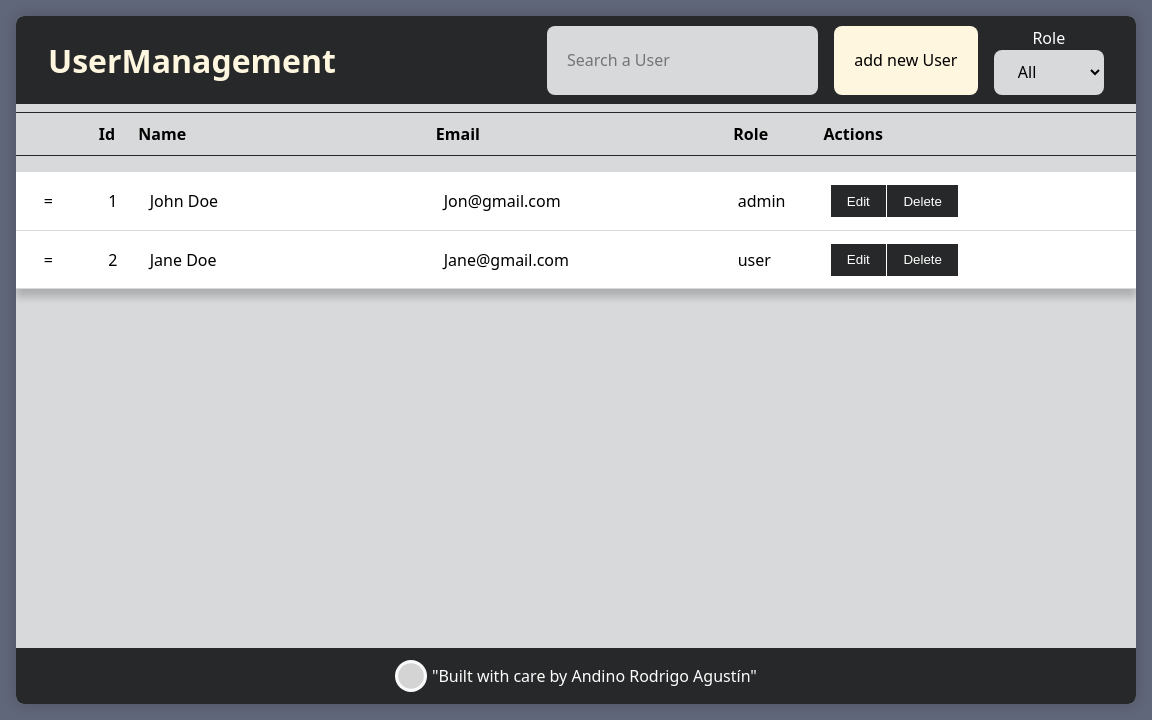
Test: App › should add a new user
Click the button "add new User": (906, 60) left=834, top=26, right=978, bottom=95
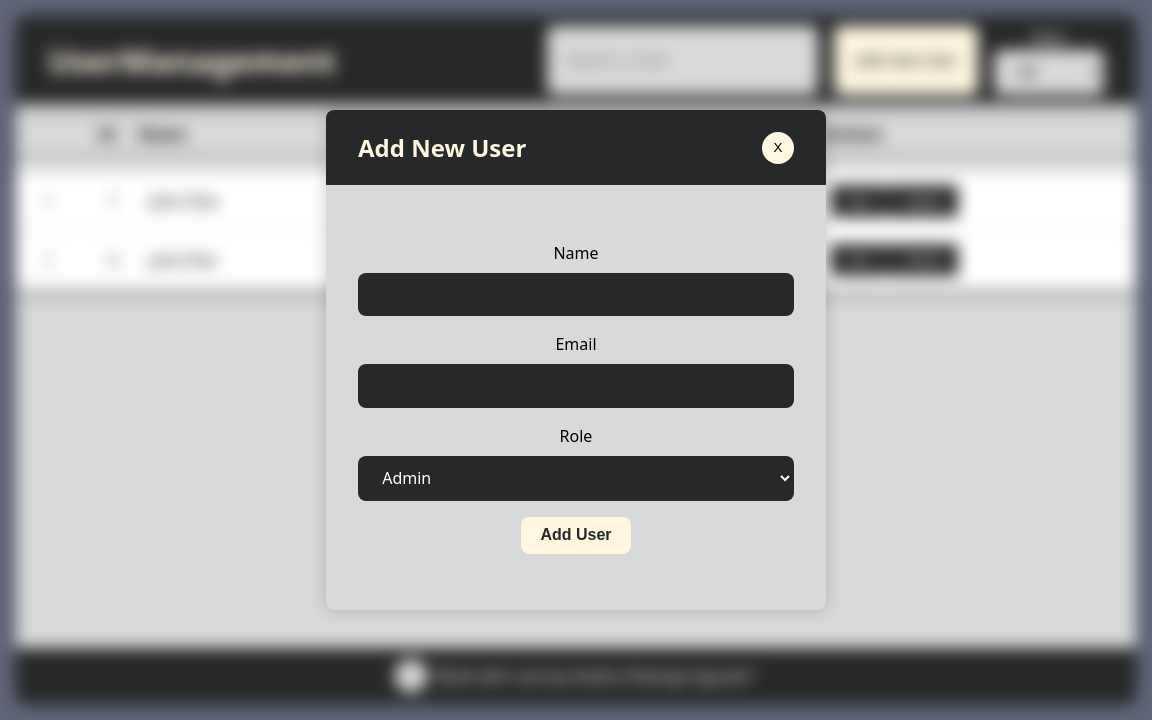
In the field labelled "Name": (576, 295) left=358, top=273, right=794, bottom=316, type "Rodri"
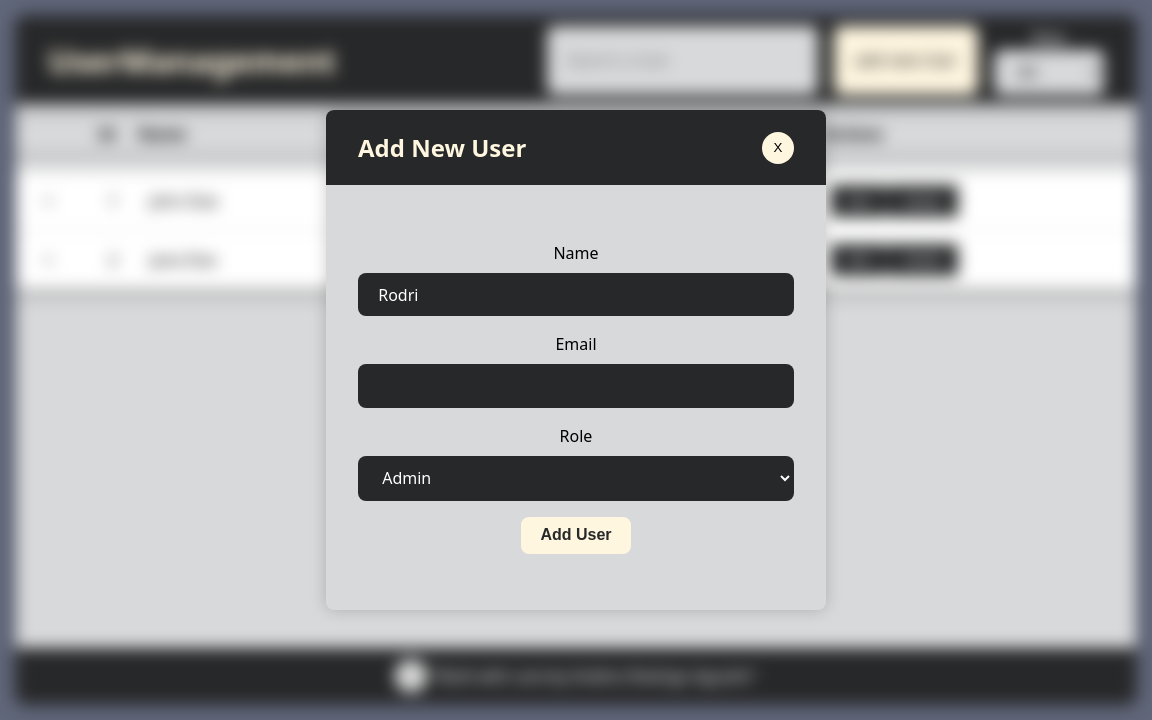
In the field labelled "Email": (576, 386) left=358, top=364, right=794, bottom=408, type "andinorodrigo03@gmail.com"
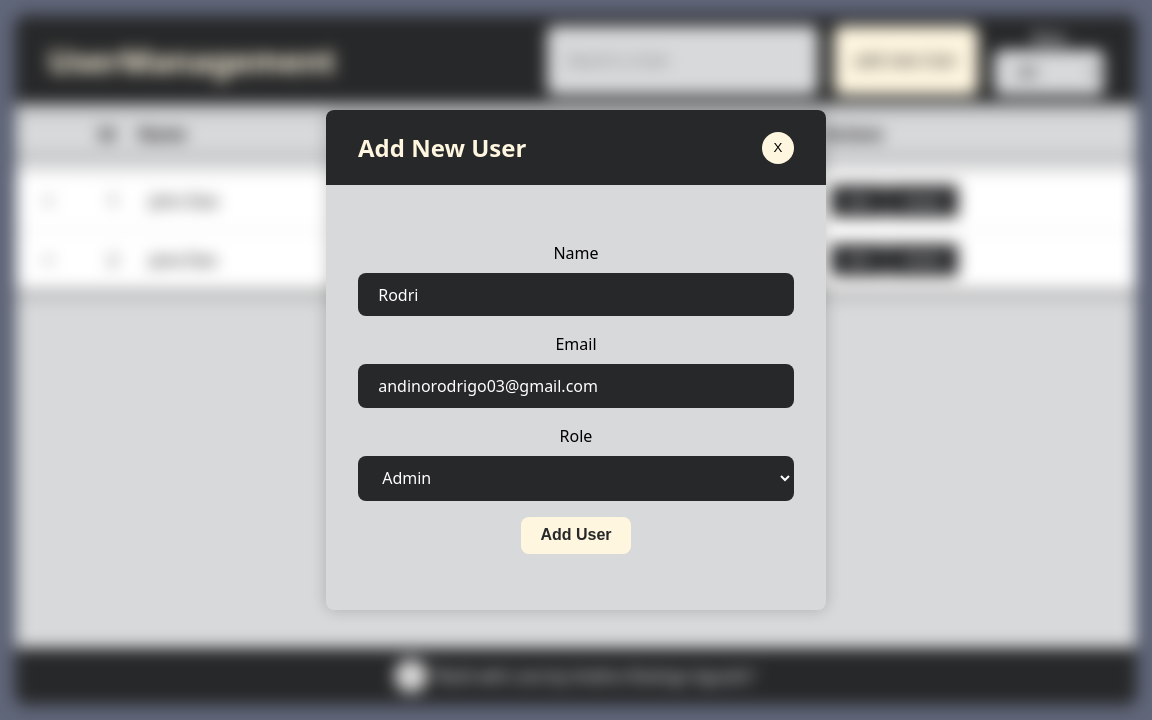
Click the button "Add User": (576, 535) left=521, top=517, right=631, bottom=554
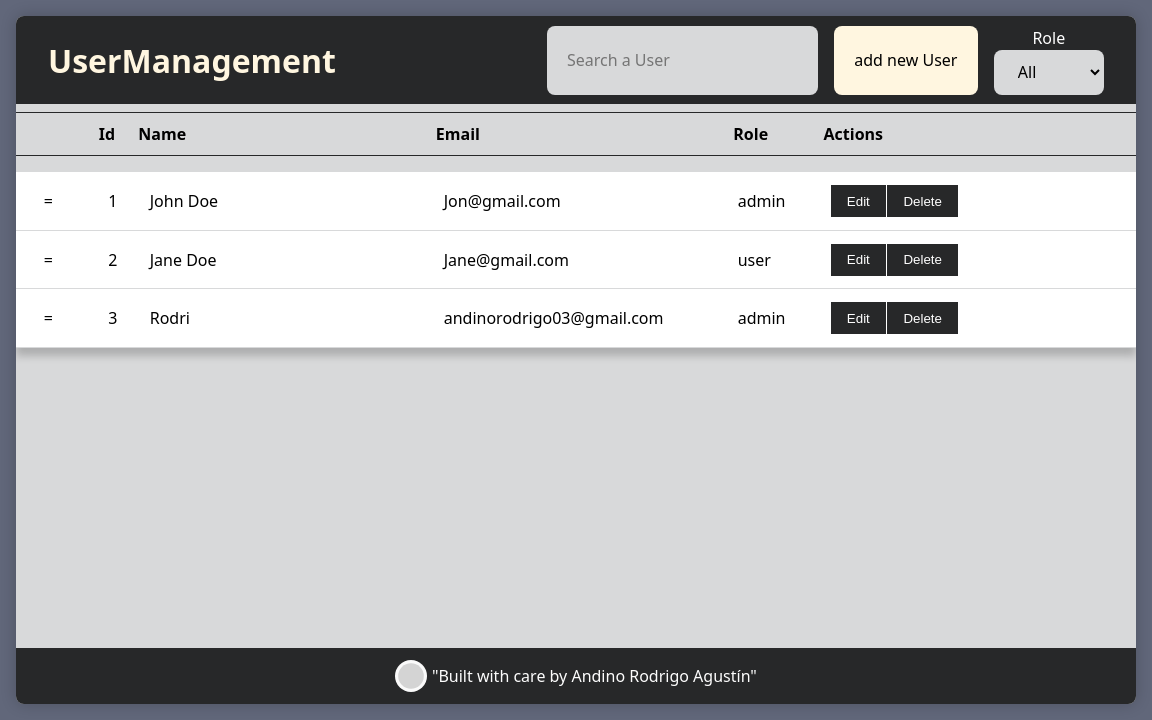
Expected: the number of rows is 4, left=16, top=113, right=1136, bottom=155; left=16, top=172, right=1136, bottom=231; left=16, top=231, right=1136, bottom=290; left=16, top=290, right=1136, bottom=348
Expected: the cell "Rodri" is shown, left=145, top=302, right=439, bottom=335
